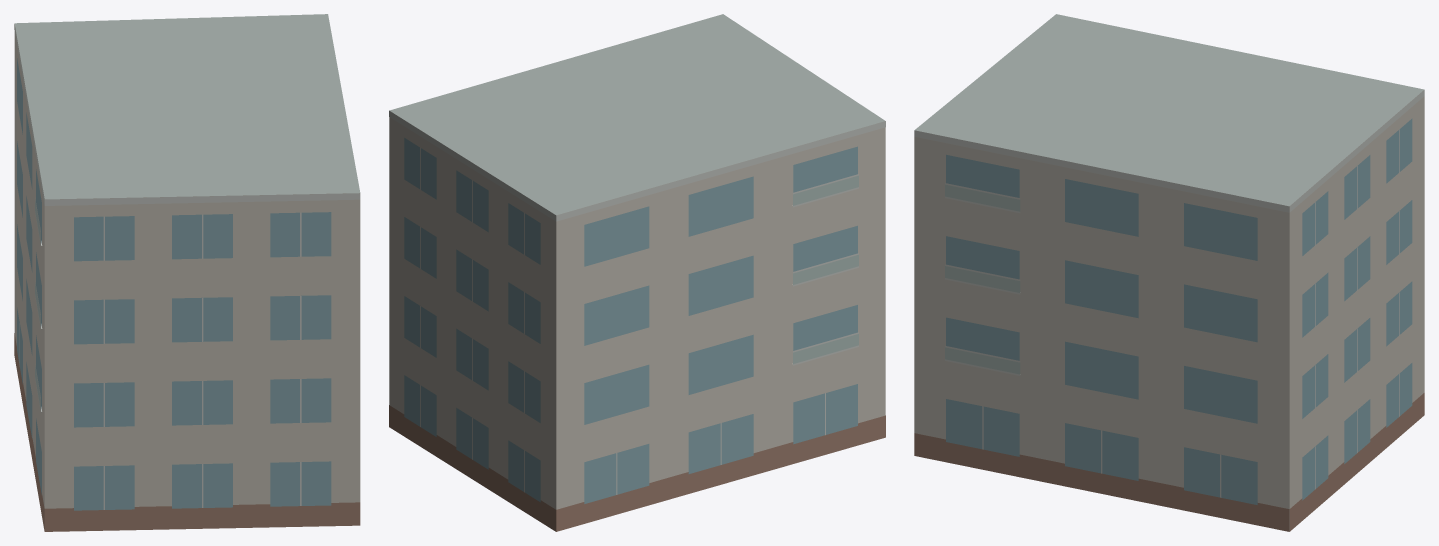
The model's file is survey-upis-32629433.glb.
The picture shows the model from 3 angles, left to right: view 1: azimuth 30°, elevation 25°; view 2: azimuth 150°, elevation 25°; view 3: azimuth 270°, elevation 25°; orthographic projection. The views are drawn at different scales.
Parts seen in each view (by area): view 1: survey-upis-32629433.tmp; view 2: survey-upis-32629433.tmp; view 3: survey-upis-32629433.tmp.
Part boxes in pixels (<box>): survey-upis-32629433.tmp: <box>14,14,360,531</box>; survey-upis-32629433.tmp: <box>389,14,885,531</box>; survey-upis-32629433.tmp: <box>914,14,1424,531</box>.
Size of the model in its own units: 15.59 by 12.3 by 17.48.
